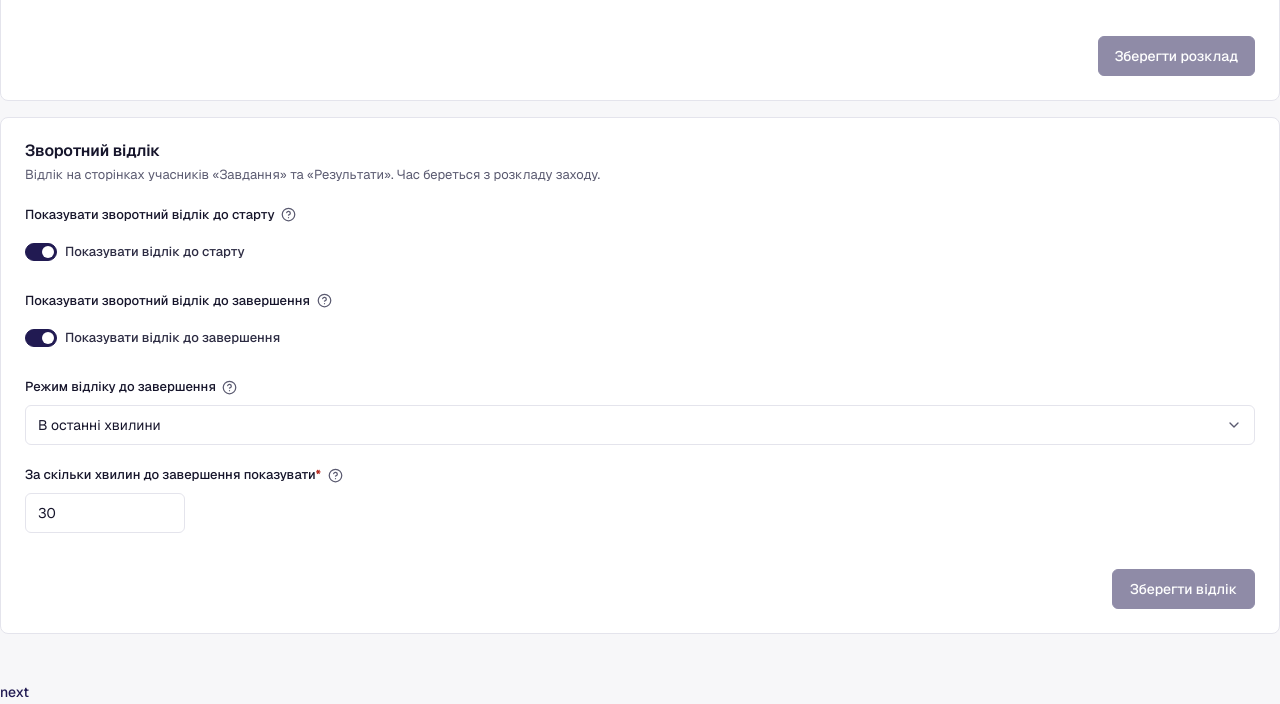
Test: event schedule › finish countdown › hides the minutes in from_start mode and restores them going back
(page scrolled)
Replace the text in the number field with id "countdown-finish-minutes" with "45": (105, 513) [25, 493, 185, 533]
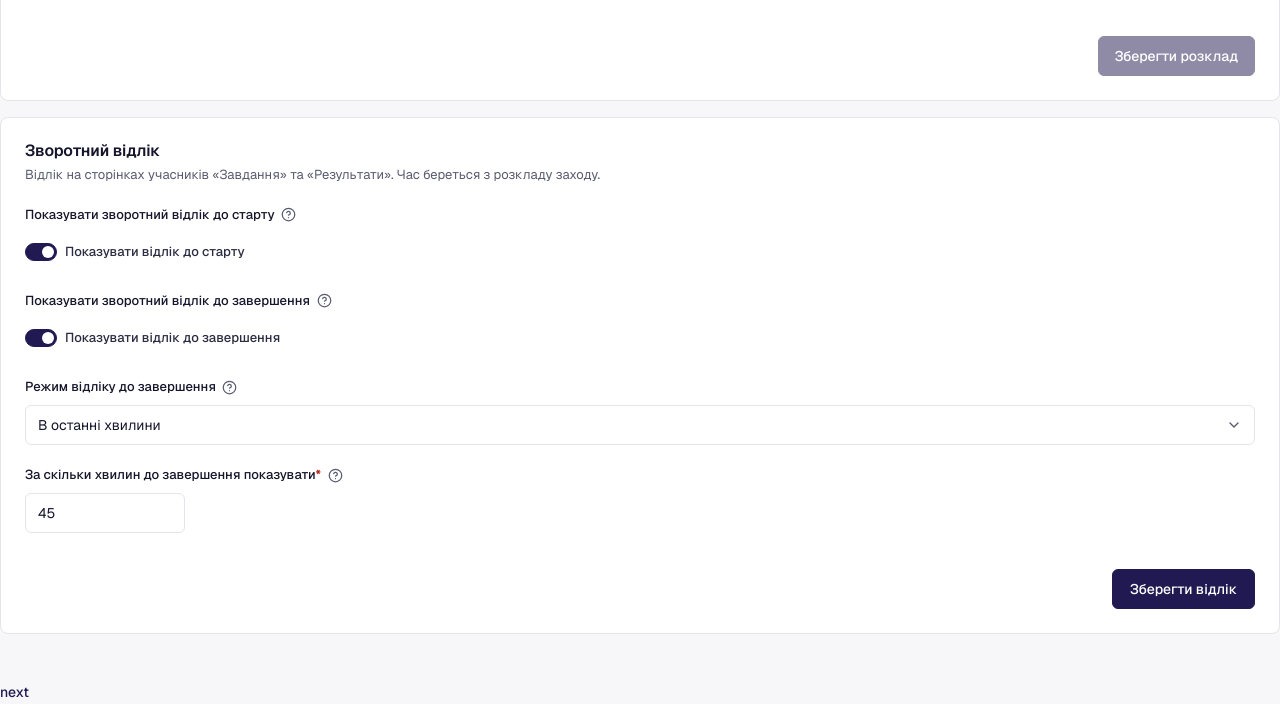
Press the mouse on the button with aria-label "Режим відліку до завершення": (99, 425) [25, 405, 1255, 445]
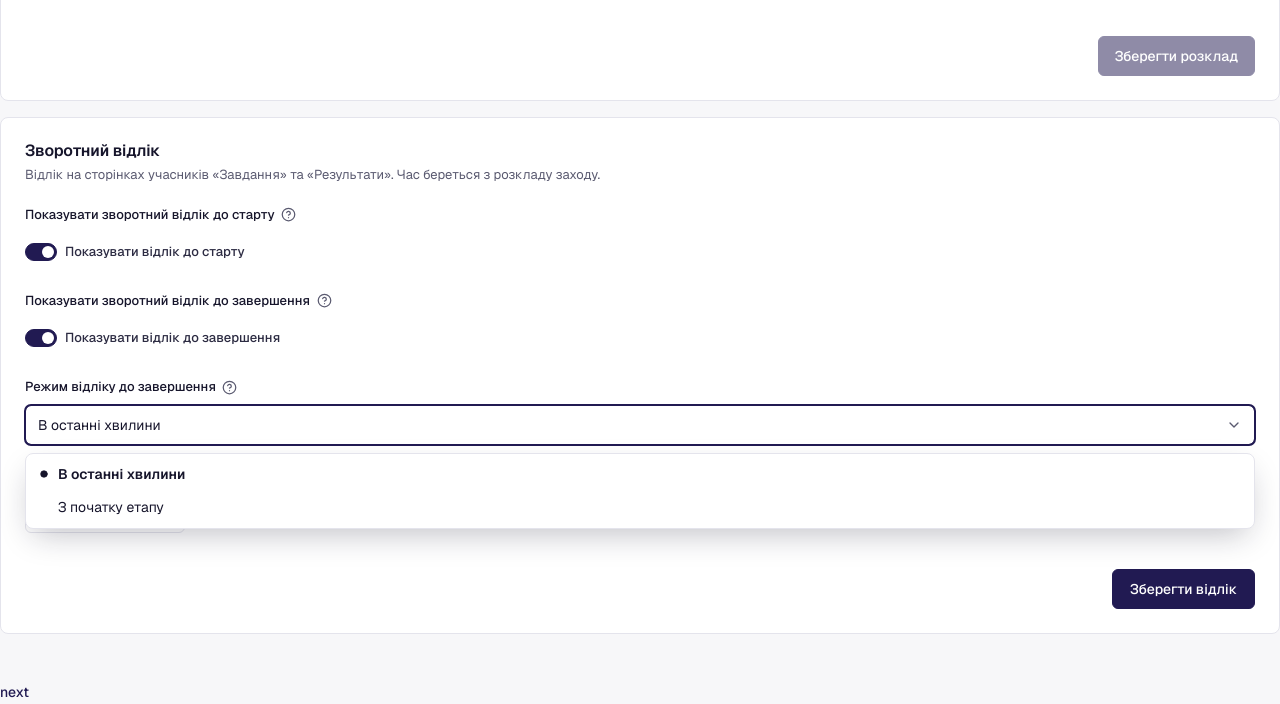
Click the menu item "З початку етапу": (111, 507) [58, 498, 164, 516]
(page scrolled)
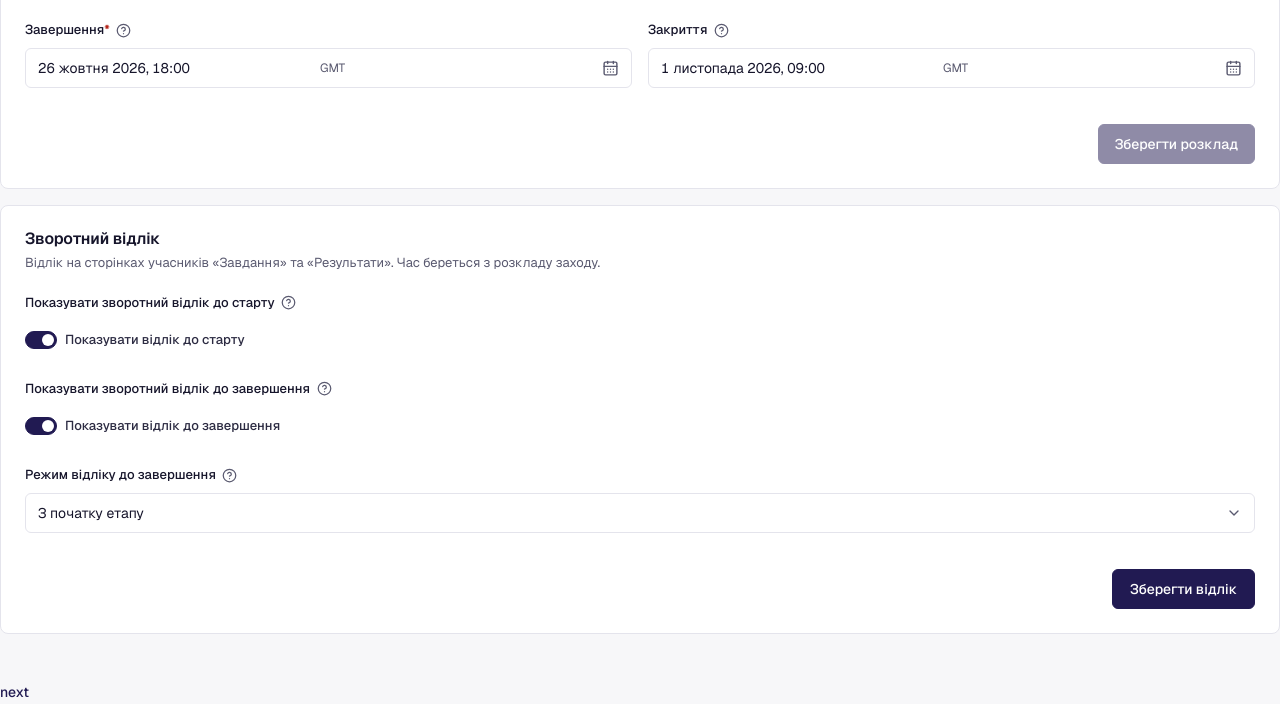
Expected: the label with id "countdown-finish-minutes" is gone
Press the mouse on the button with aria-label "Режим відліку до завершення": (91, 513) [25, 493, 1255, 533]
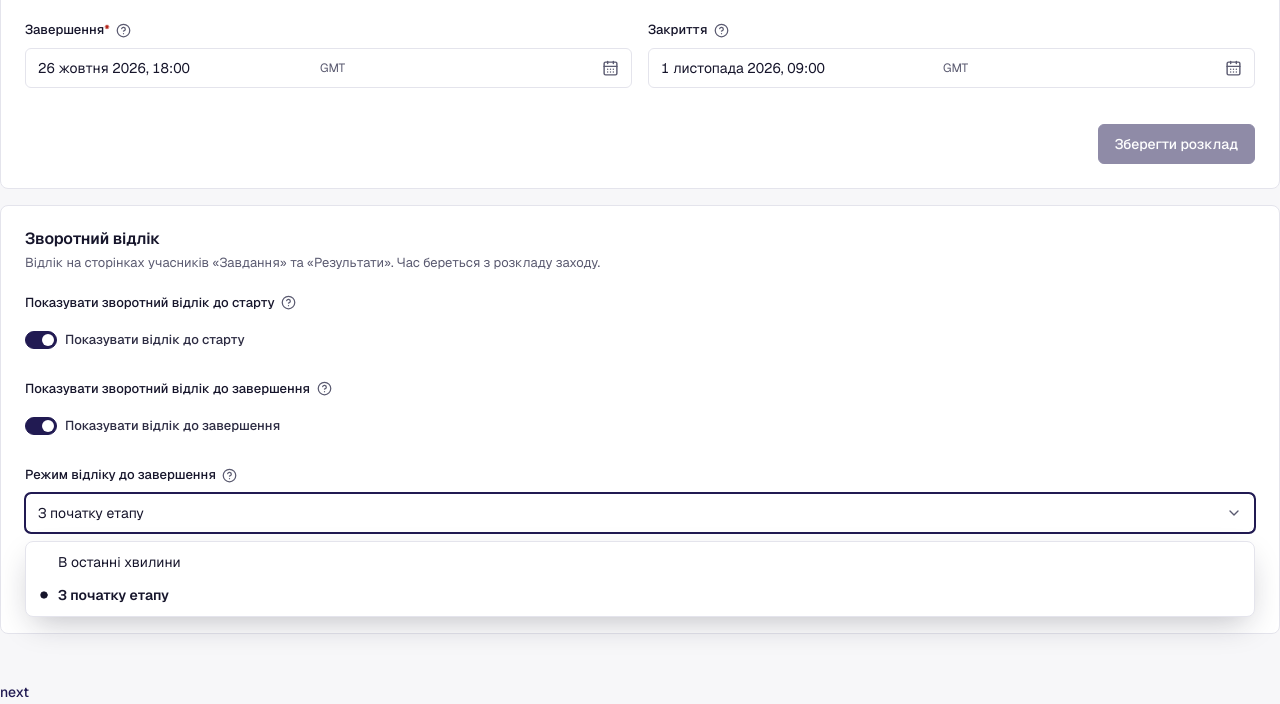
Click the menu item "В останні хвилини": (119, 562) [58, 553, 181, 571]
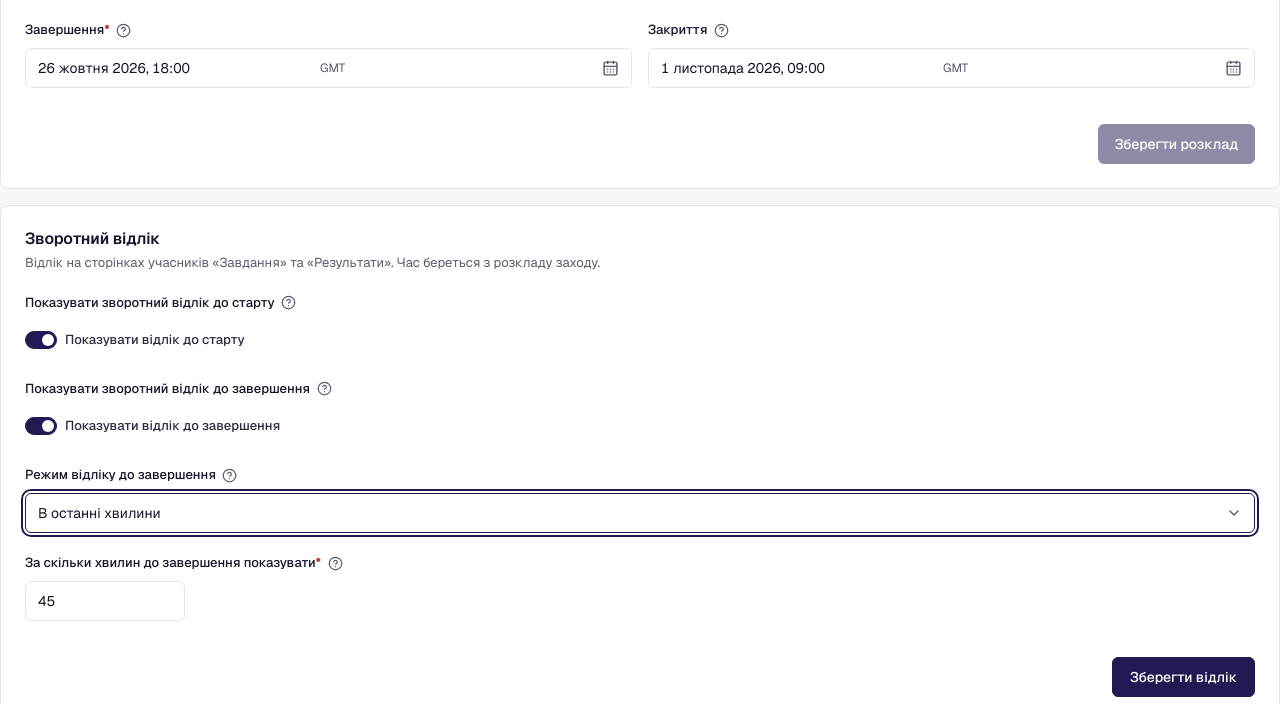
Expected: the number field with id "countdown-finish-minutes" holds "45", [25, 581, 185, 621]
